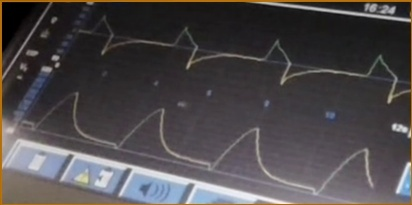Flow: (78, 13, 409, 103)
Leakage Volume: (24, 90, 375, 196)
